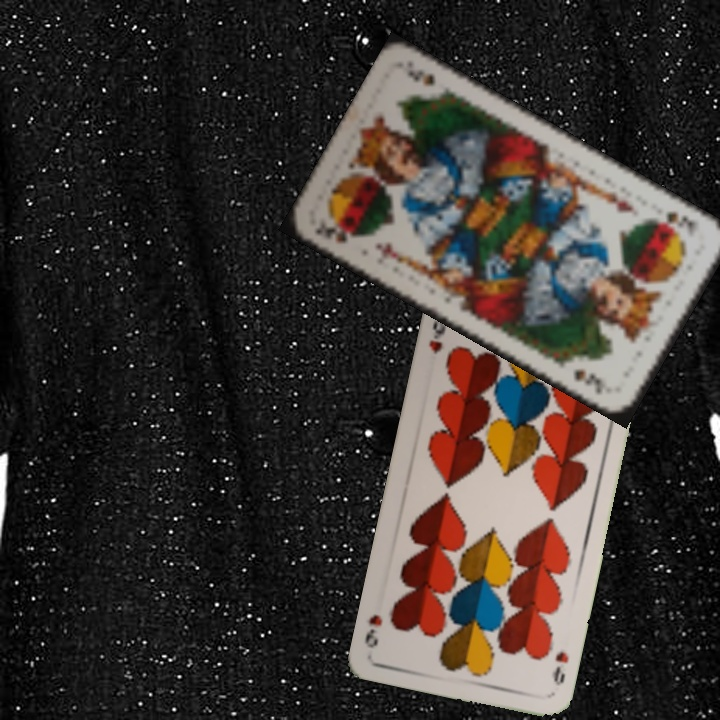H9: (424, 316, 449, 356), (549, 647, 572, 688)
SK: (310, 216, 360, 247), (649, 207, 697, 238)
